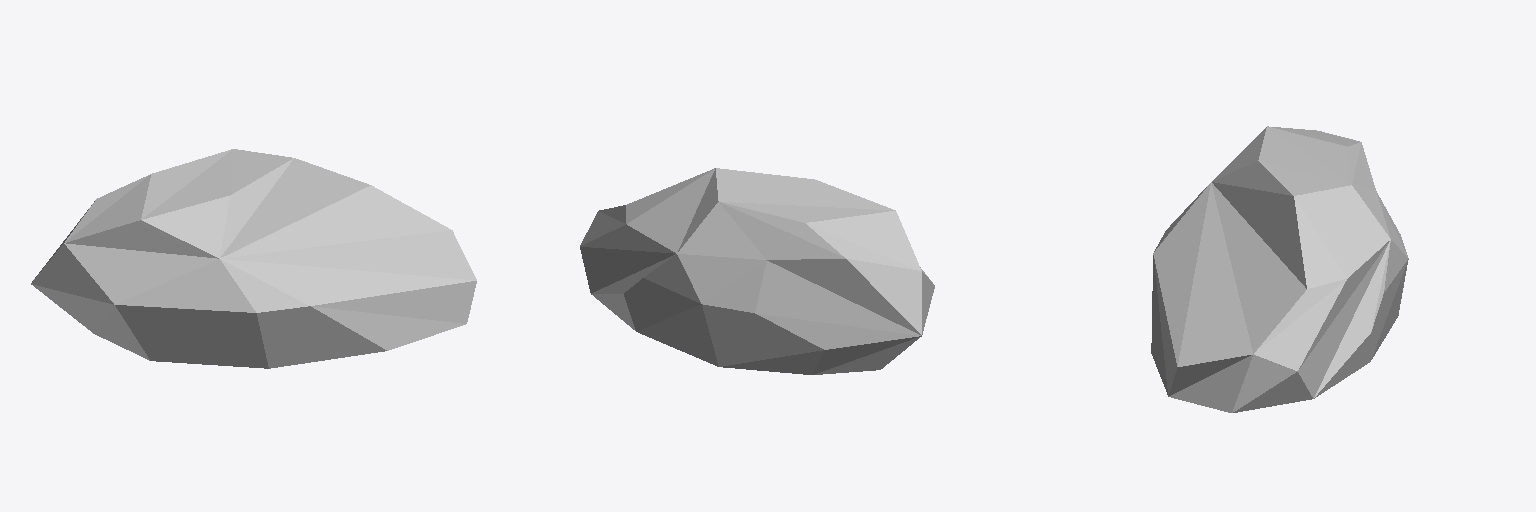
Rendered from rock1.obj.
3 views of the same model, side by side, from view 1: azimuth 30°, elevation 25°; view 2: azimuth 150°, elevation 25°; view 3: azimuth 270°, elevation 25° (orthographic).
Visible parts, largest first — view 1: mesh_0; view 2: mesh_0; view 3: mesh_0.
Part boxes in pixels (x1,y1,x2,y2): mesh_0: (31,149,476,368); mesh_0: (580,168,934,374); mesh_0: (1151,126,1408,412).
Size of the model in its own units: 27.24 by 11.25 by 16.